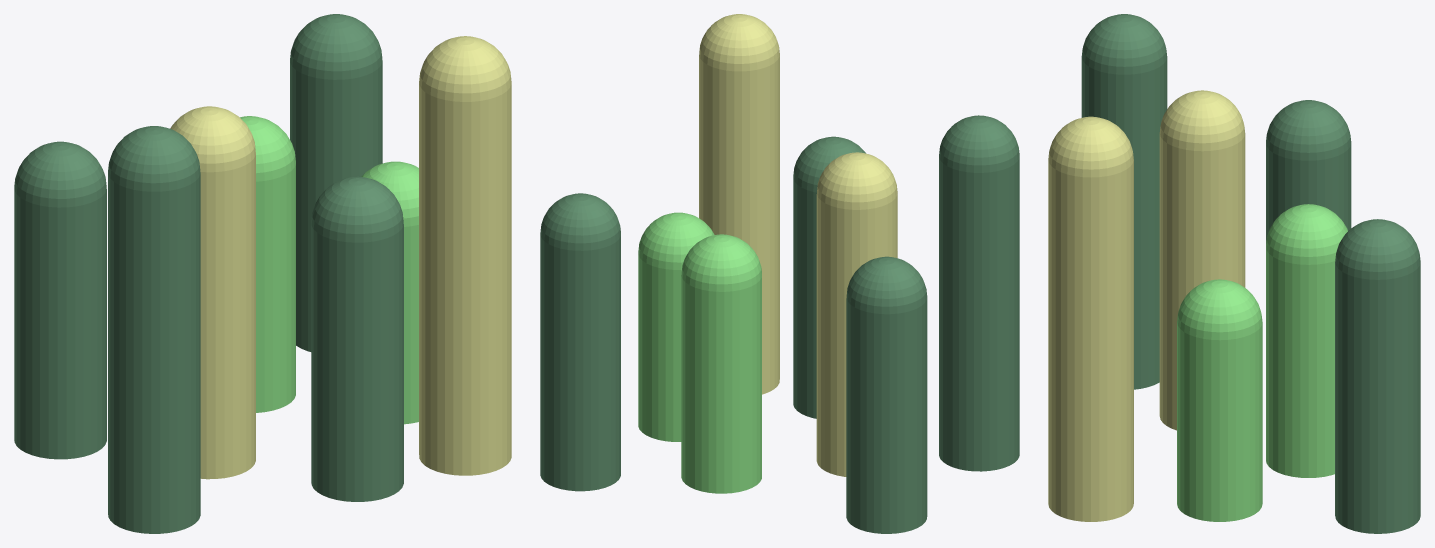
Rendered from grass1.fbx.
3 renders of one model, left to right at view 1: azimuth 30°, elevation 25°; view 2: azimuth 150°, elevation 25°; view 3: azimuth 270°, elevation 25°, orthographic. The views are drawn at different scales.
Parts seen in each view (by area): view 1: grass1; view 2: grass1; view 3: grass1.
Part boxes in pixels (x1,y1,x2,y2): grass1: (14,14,511,533); grass1: (540,14,1019,533); grass1: (1048,14,1420,533).
Bounding box in the file's own units: 227 × 225 × 198.
